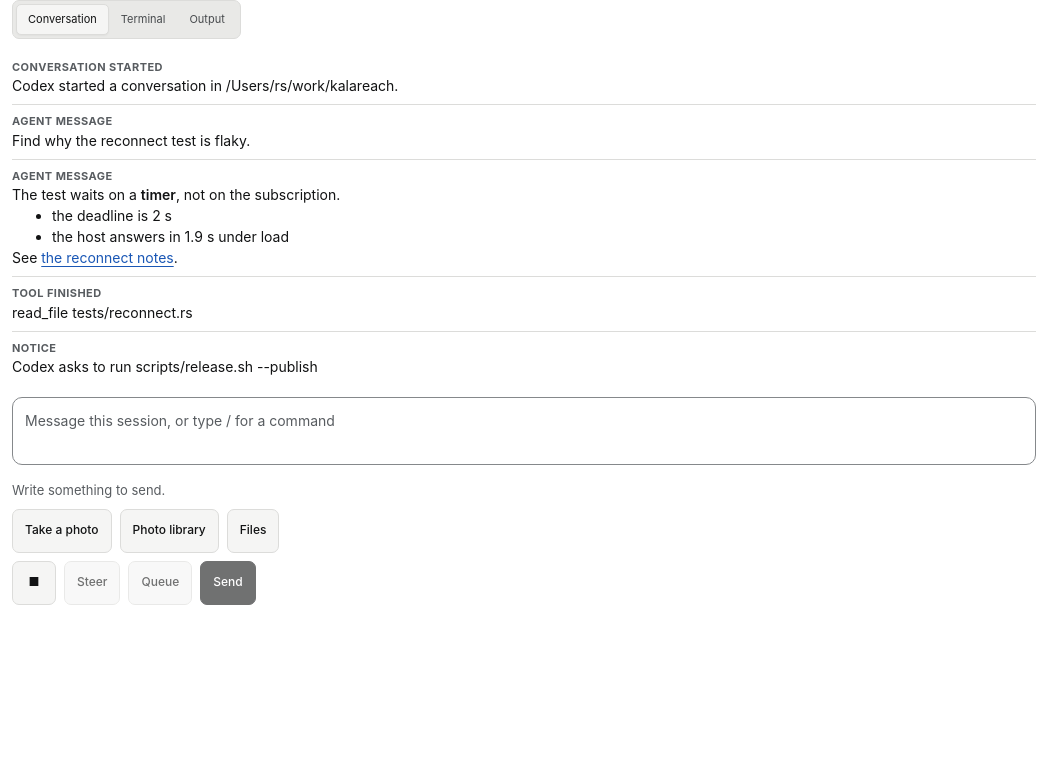
Test case: the phone's Queue (KR-REQ-13.12) › keeps what was typed when the host refuses the queued prompt
This screenshot has width=1048, height=768.
Expected: the text "Find why the reconnect test is flaky." is shown, [12, 132, 250, 148]
Type "then run the linter" into the text box labelled "Message this session" at {"x": 524, "y": 431}, box [12, 397, 1036, 465]
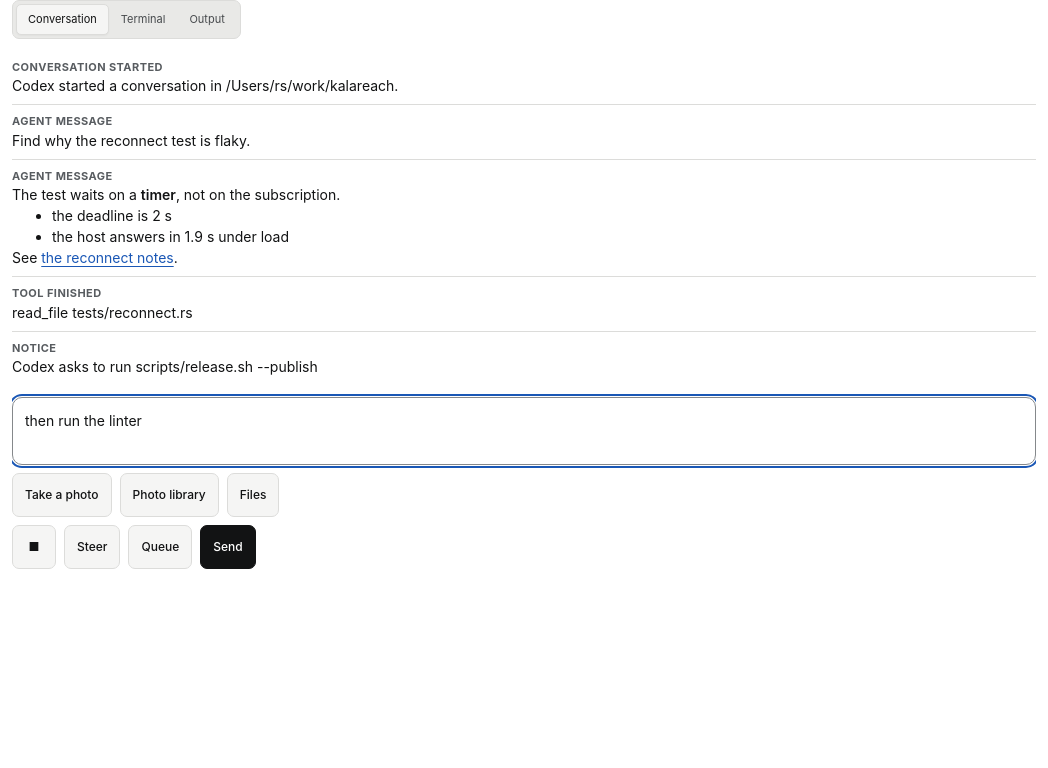
Click the button "Queue" at {"x": 160, "y": 547}, box [128, 525, 192, 569]
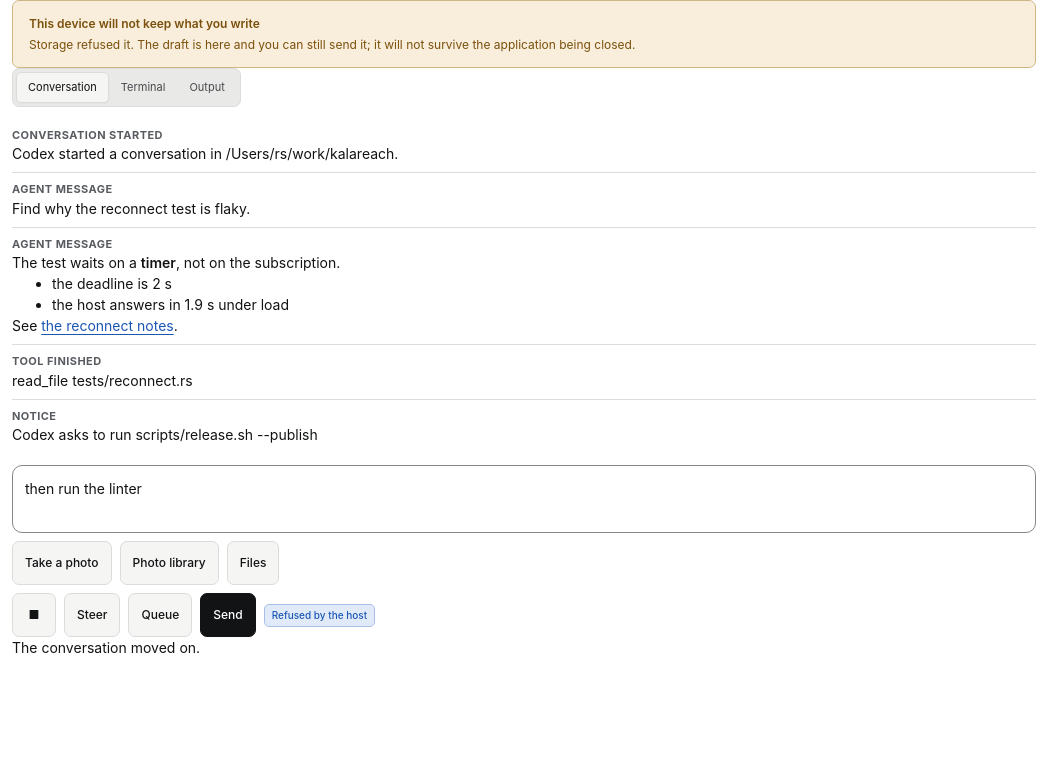
Expected: the text "Refused by the host" is shown, [264, 604, 375, 627]
